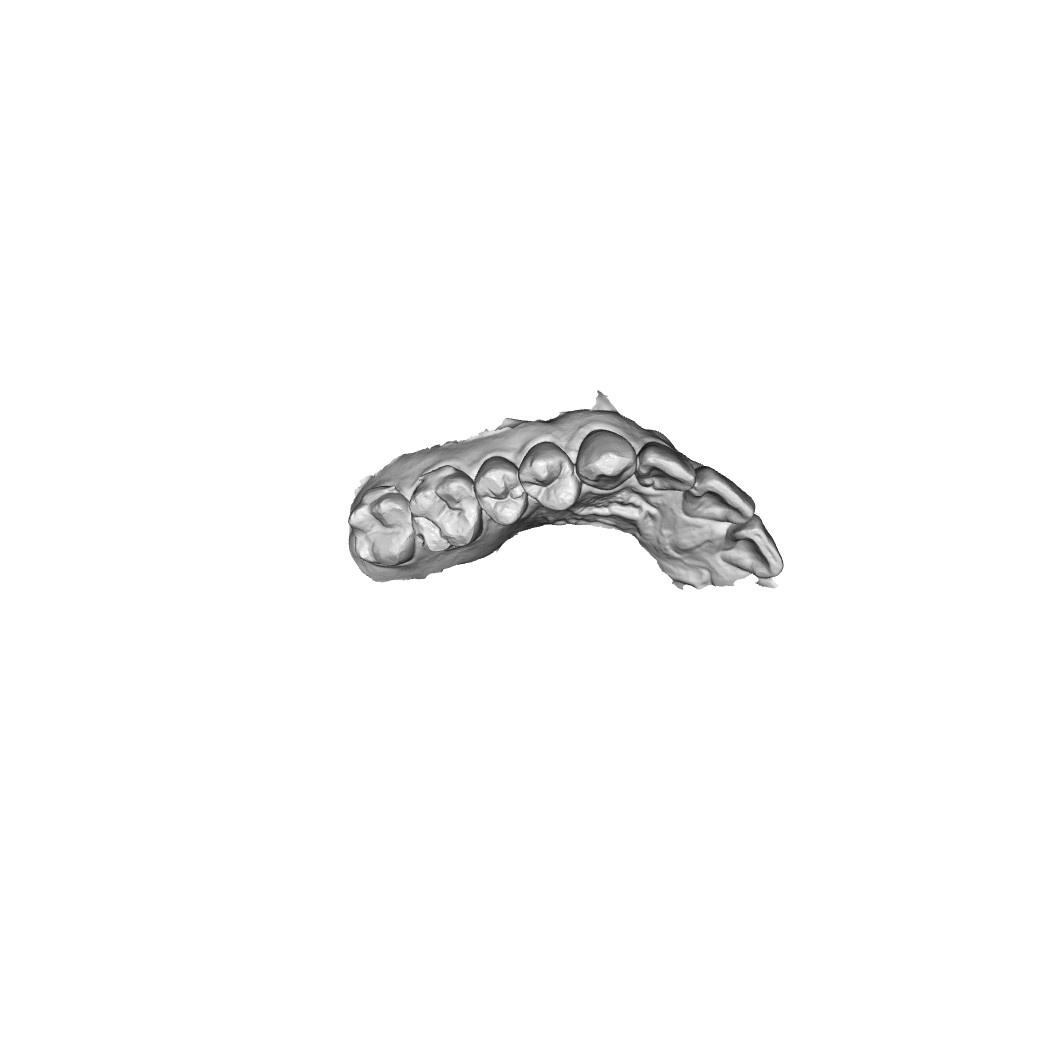canine: (575, 427, 638, 493)
incisor: (681, 462, 758, 526), (718, 512, 786, 581), (634, 440, 698, 493)
molar: (407, 465, 485, 556), (346, 490, 418, 570)
premolar: (518, 440, 581, 514), (473, 454, 529, 529)
